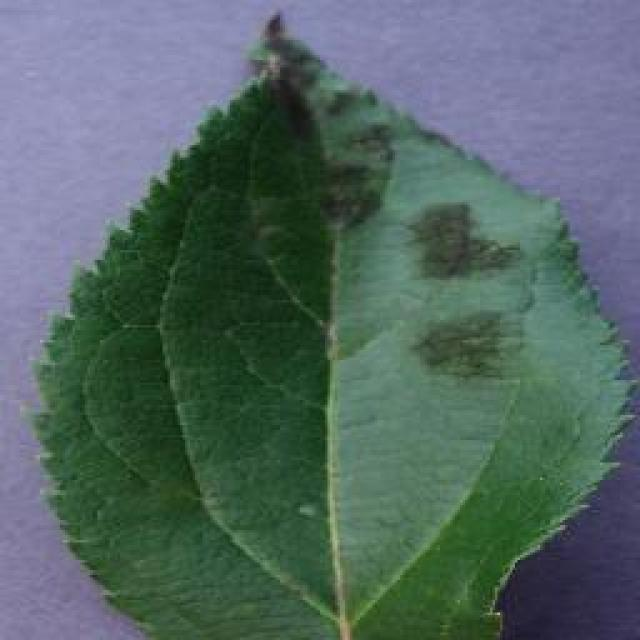apple scab disease: (25, 8, 637, 638)
